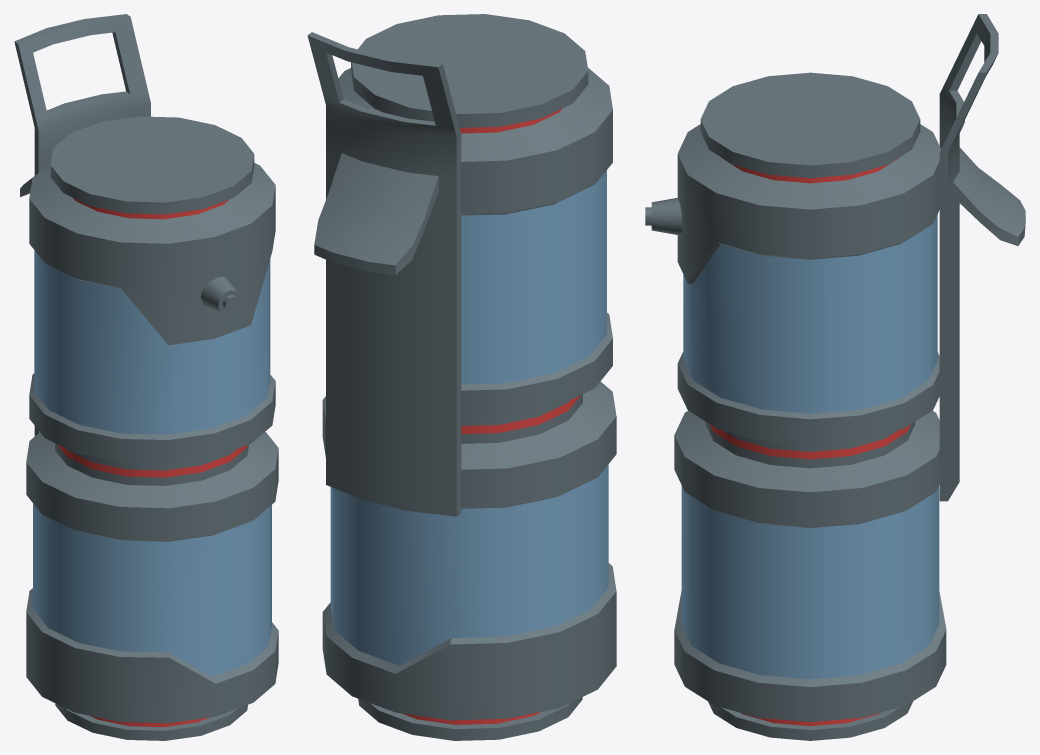
Rendered from WateringCan.fbx.
3 views of the same model, side by side, from view 1: azimuth 30°, elevation 25°; view 2: azimuth 150°, elevation 25°; view 3: azimuth 270°, elevation 25° (orthographic). The views are drawn at different scales.
Parts seen in each view (by area): view 1: WateringCan; view 2: WateringCan; view 3: WateringCan.
Boxes of the visible parts, <box> form: WateringCan: <box>14,14,278,740</box>; WateringCan: <box>307,14,616,740</box>; WateringCan: <box>645,14,1025,740</box>.
Size of the model in its own units: 51.74 by 137 by 72.39.
